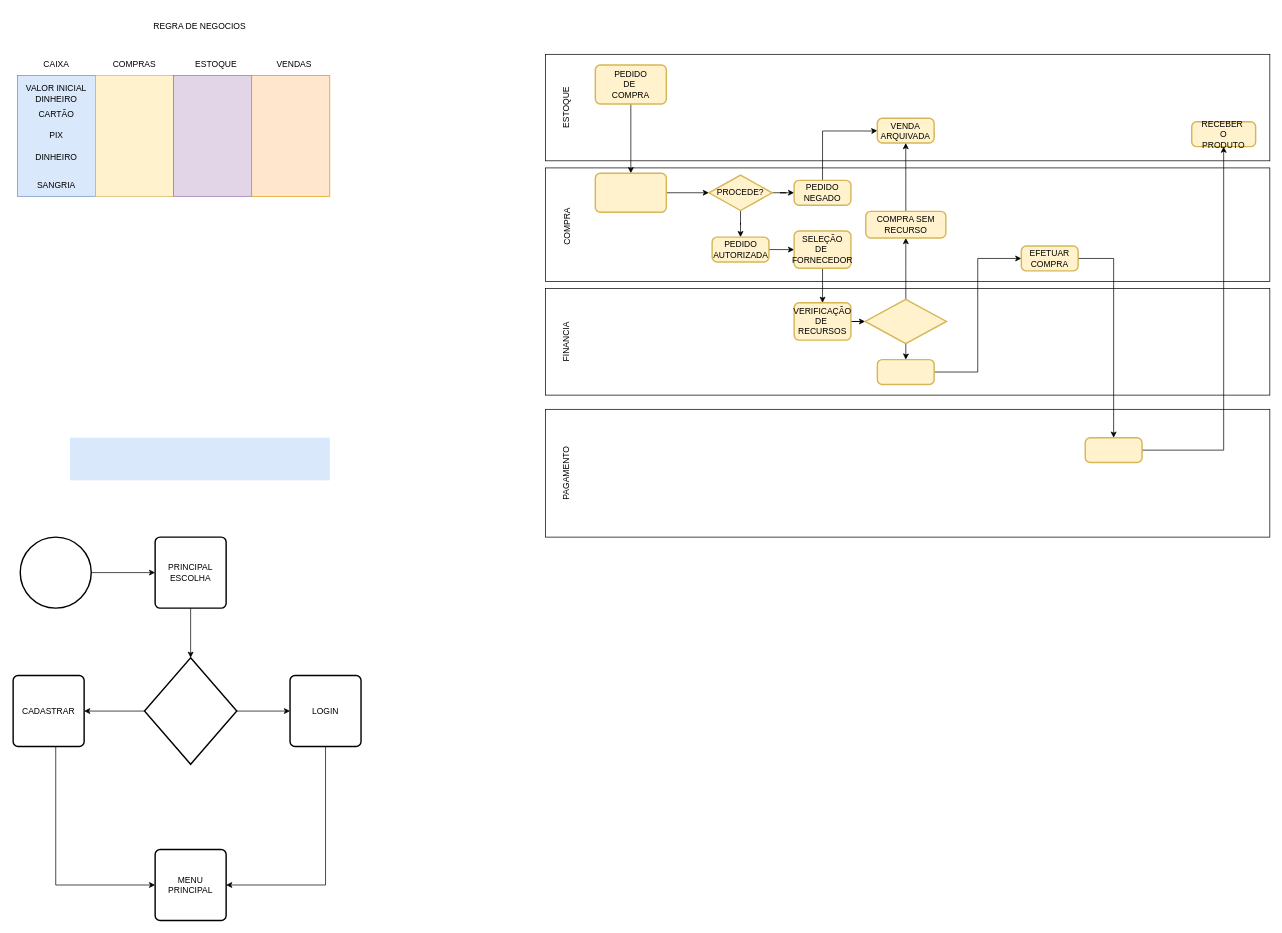
This 1282x933 diagram has some shape labels left out. Here are the shapes that lost their labels. From the top down, the centre of each, then its label:
At point 630,192: "CHECAGEM DO PEDIDO".
At point 905,321: "RECURSO DESPONIVEL?".
At point 905,372: "COMPRA AUTORIZADA".
At point 199,458: "Diagrama do Sistema de Bebidas".
At point 1113,450: "EFETUA PAGAMENTO".
At point 55,572: "INICIAR".
At point 190,711: "TEM CADASTRO".
